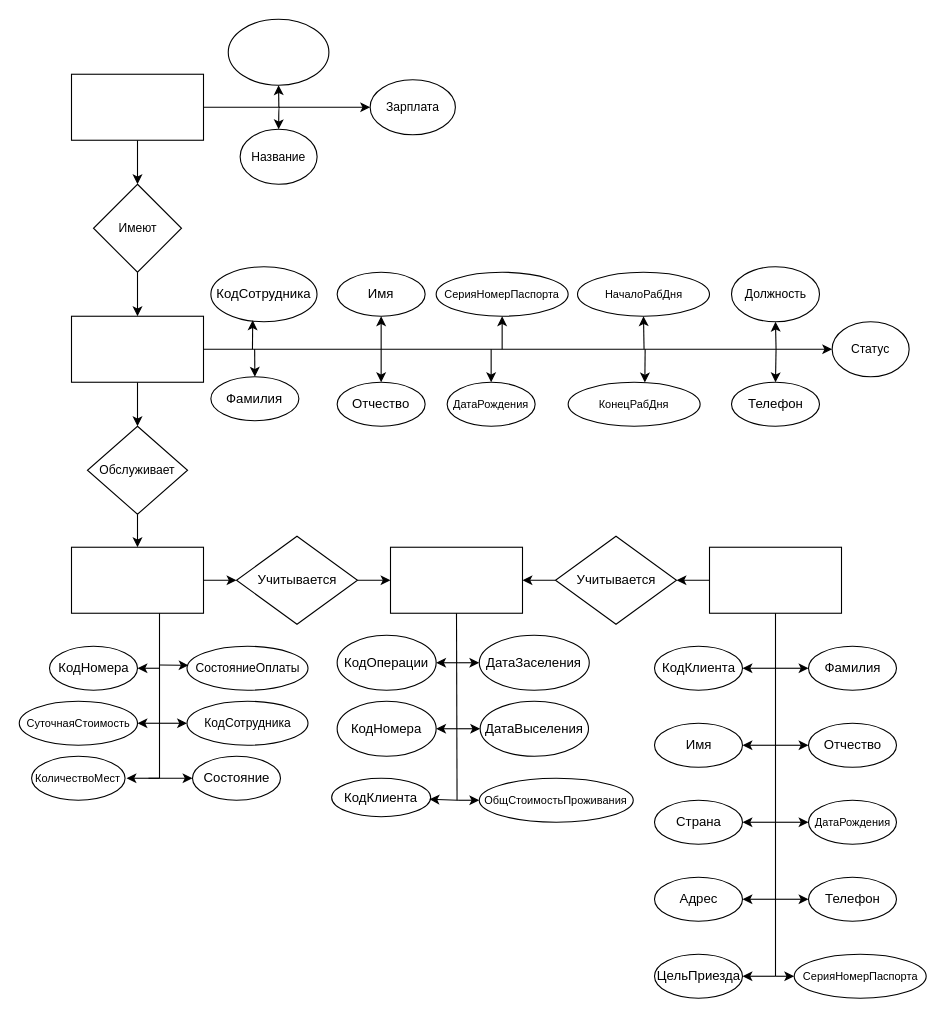
The diagram is 946 pixels wide and 1018 high, and some of its shapes have lost their labels. The shapes that lost their labels are listed below. From the top down, each one's centre as x and y in pixels, then its label:
(278,51): КодДолжности
(137,106): Должности
(137,348): Персонал
(137,579): Номера
(455,579): УчетРаботы
(775,579): Клиенты
